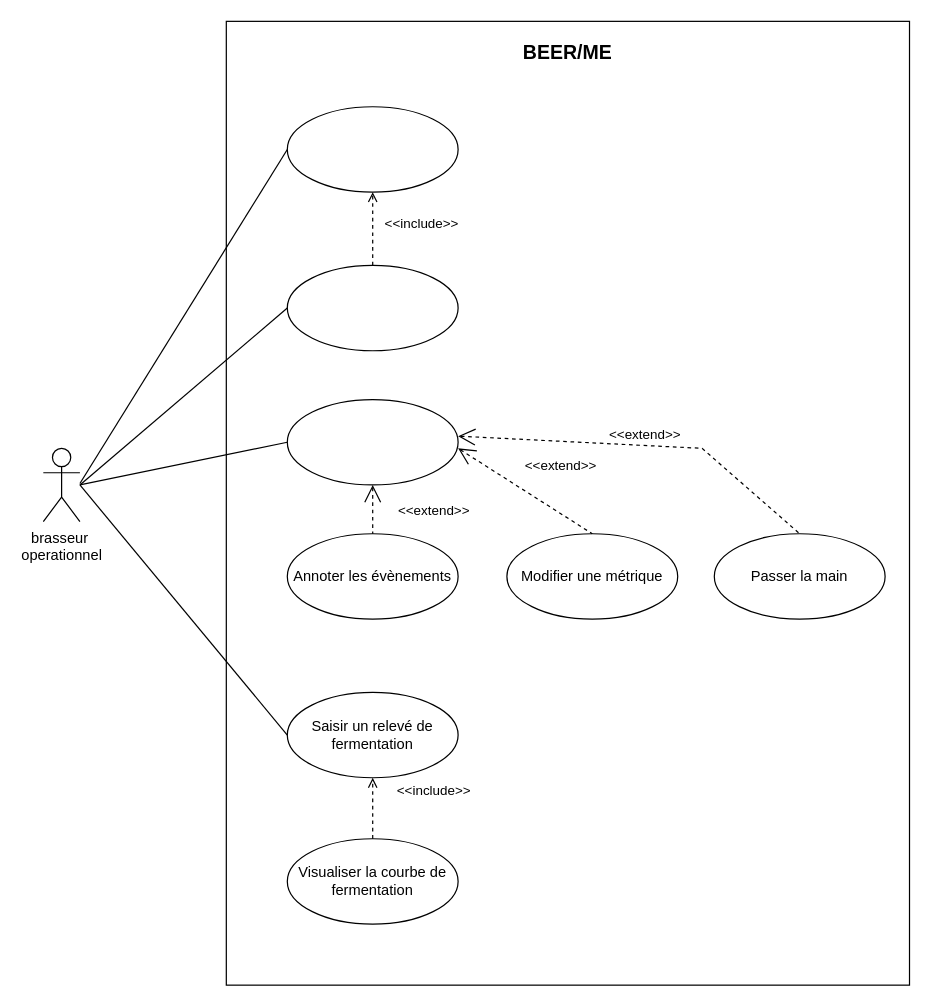
This 931x1007 diagram has some shape labels left out. Each missing label, with the centre of its shape:
"Démarrer un brassin" belongs at (x=372, y=307).
"importer une recette" belongs at (x=372, y=149).
"Suivre les étapes" belongs at (x=372, y=441).
